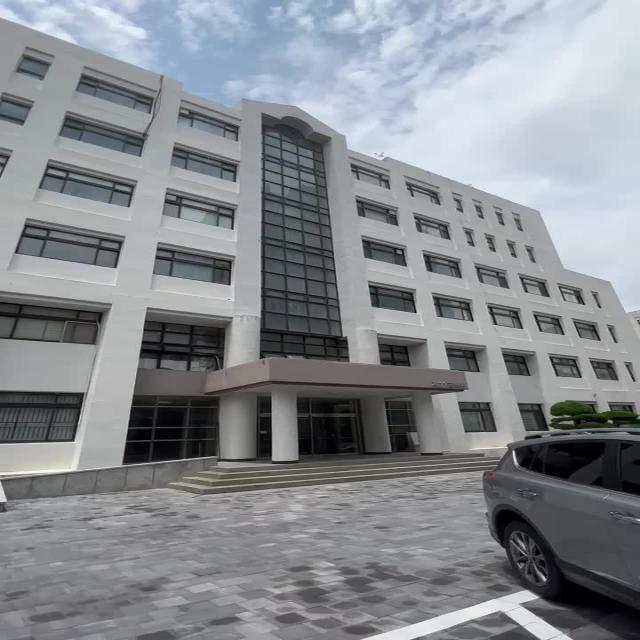building: (18, 58, 517, 450)
